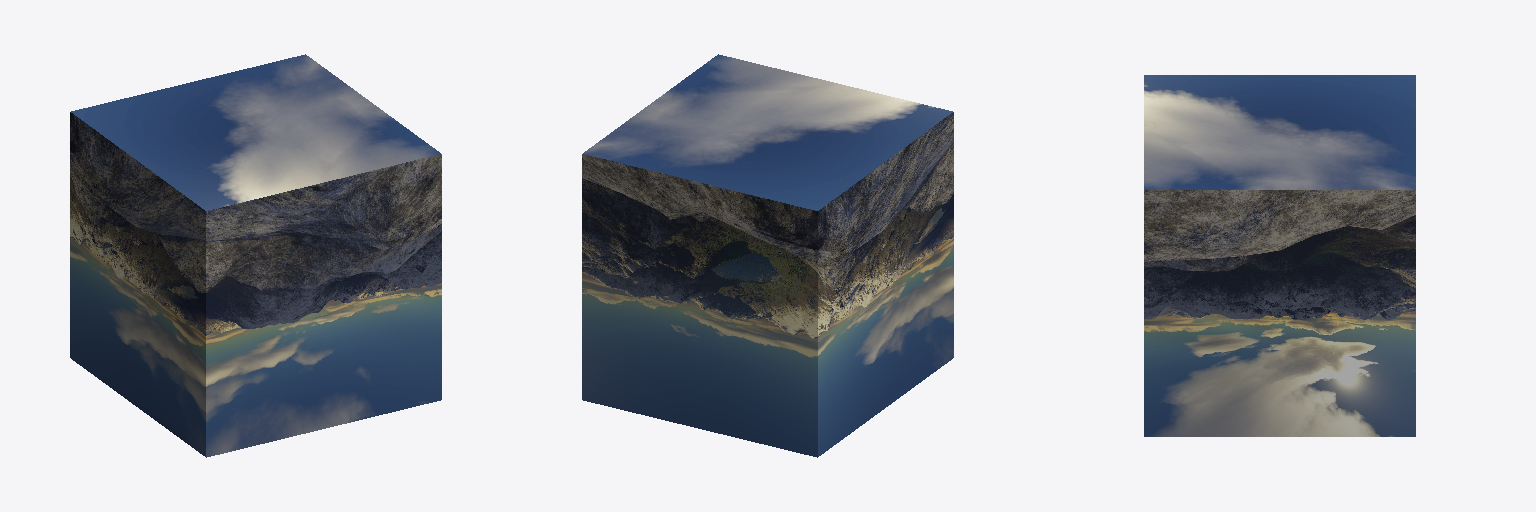
3 renders of one model, left to right at view 1: azimuth 30°, elevation 25°; view 2: azimuth 150°, elevation 25°; view 3: azimuth 270°, elevation 25°, orthographic.
Visible parts, largest first — view 1: Box001; view 2: Box001; view 3: Box001.
Boxes of the visible parts, x1=… form: Box001: x1=70, y1=54, x2=441, y2=457; Box001: x1=582, y1=54, x2=953, y2=457; Box001: x1=1144, y1=75, x2=1415, y2=436.
Bounding box in the file's own units: 3607 × 3607 × 3607.
5 materials, 5 textured.